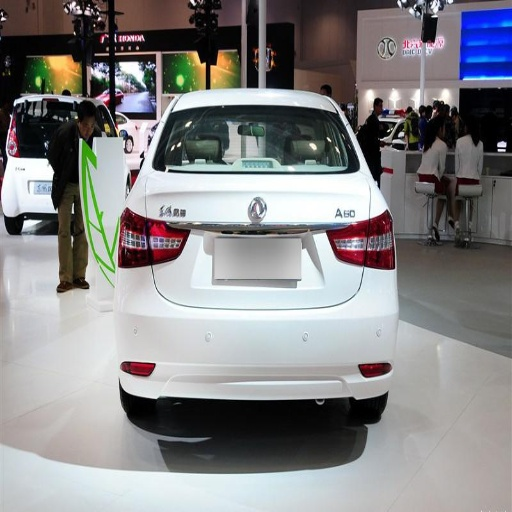back_bumper: (96, 266, 436, 430)
tailgate: (141, 170, 371, 309)
